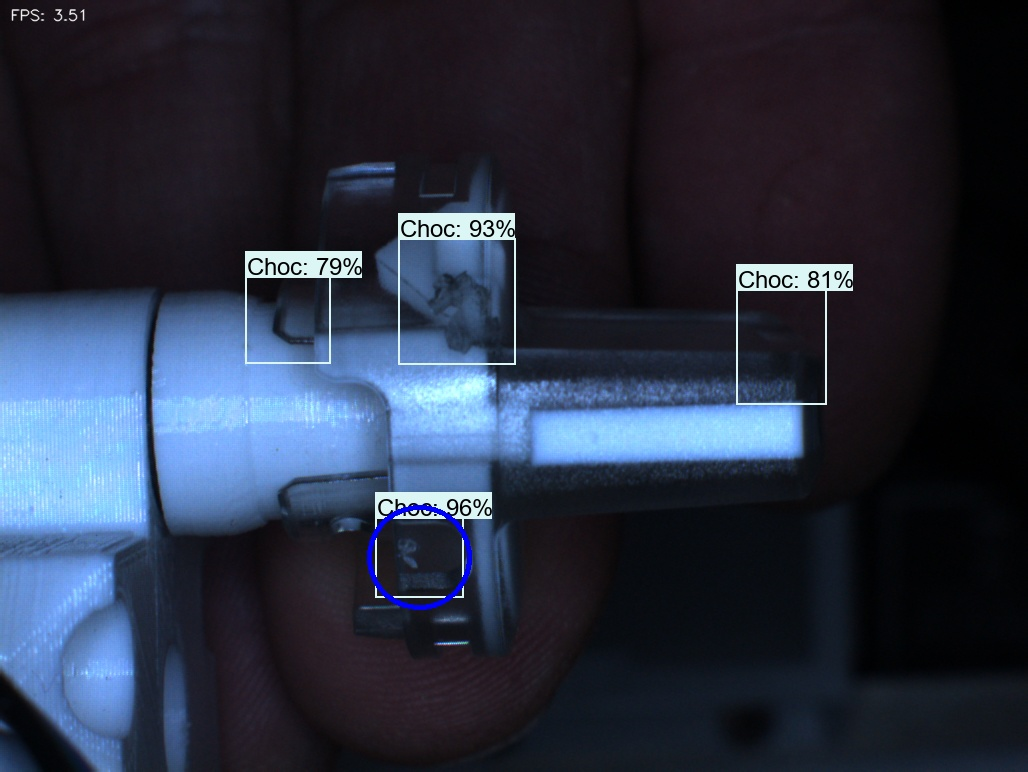DentOk: (351, 220, 432, 320)
